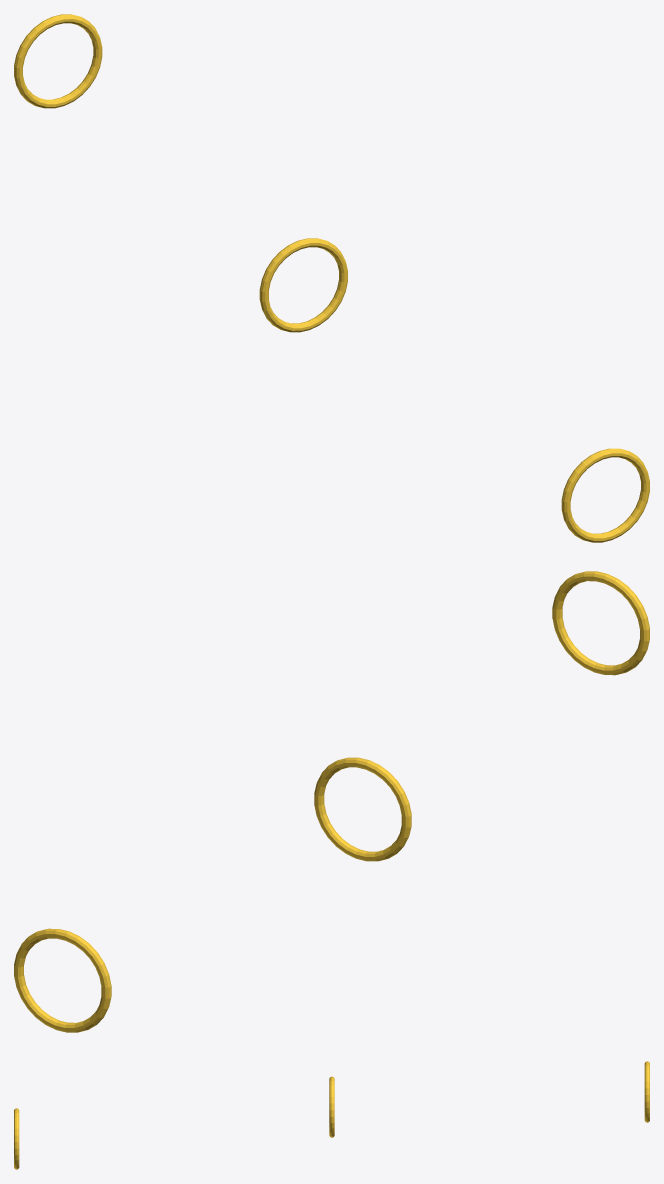
The model's file is tormenta_Aros.glb.
The picture shows the model from 3 angles, top to bottom: view 1: azimuth 30°, elevation 25°; view 2: azimuth 150°, elevation 25°; view 3: azimuth 270°, elevation 25°; orthographic projection. The views are drawn at different scales.
Visible parts, largest first — view 1: Mapa_tormenta_Aros; view 2: Mapa_tormenta_Aros; view 3: Mapa_tormenta_Aros.
Part boxes in pixels (<box>): Mapa_tormenta_Aros: <box>14,14,649,542</box>; Mapa_tormenta_Aros: <box>14,571,649,1032</box>; Mapa_tormenta_Aros: <box>14,1061,649,1169</box>.
Size of the model in its own units: 26.14 by 29.49 by 182.
Materials: 1 (1 with a texture image).
